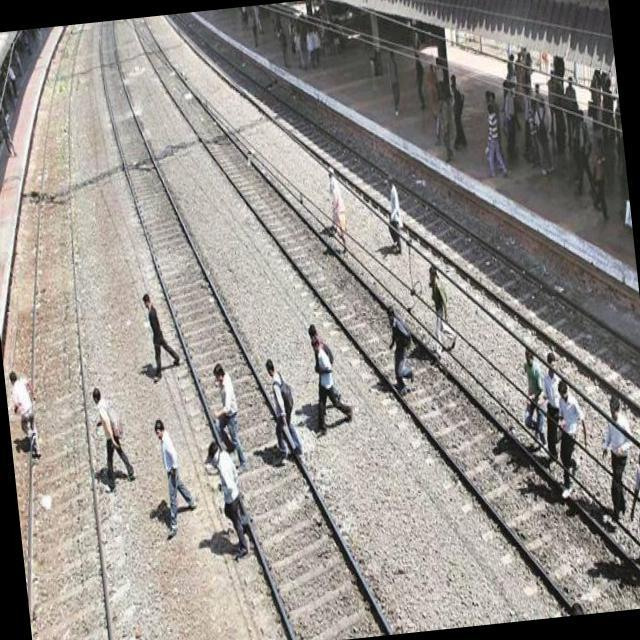person: (202, 438, 256, 564), (151, 414, 203, 542), (88, 382, 140, 498), (302, 330, 356, 436), (596, 389, 638, 524), (550, 374, 592, 502), (208, 358, 248, 476), (138, 288, 185, 387), (6, 364, 46, 469), (264, 356, 302, 466), (382, 300, 421, 404), (518, 346, 550, 457), (424, 260, 457, 362), (322, 162, 352, 262), (622, 444, 640, 579), (481, 98, 509, 182), (381, 172, 407, 261), (386, 46, 403, 118), (412, 48, 430, 114)
